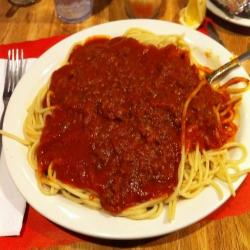bolonese_pasta: (23, 25, 242, 214)
